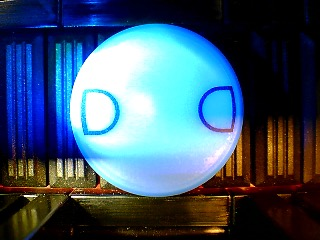MIPO2: (70, 23, 245, 197)
